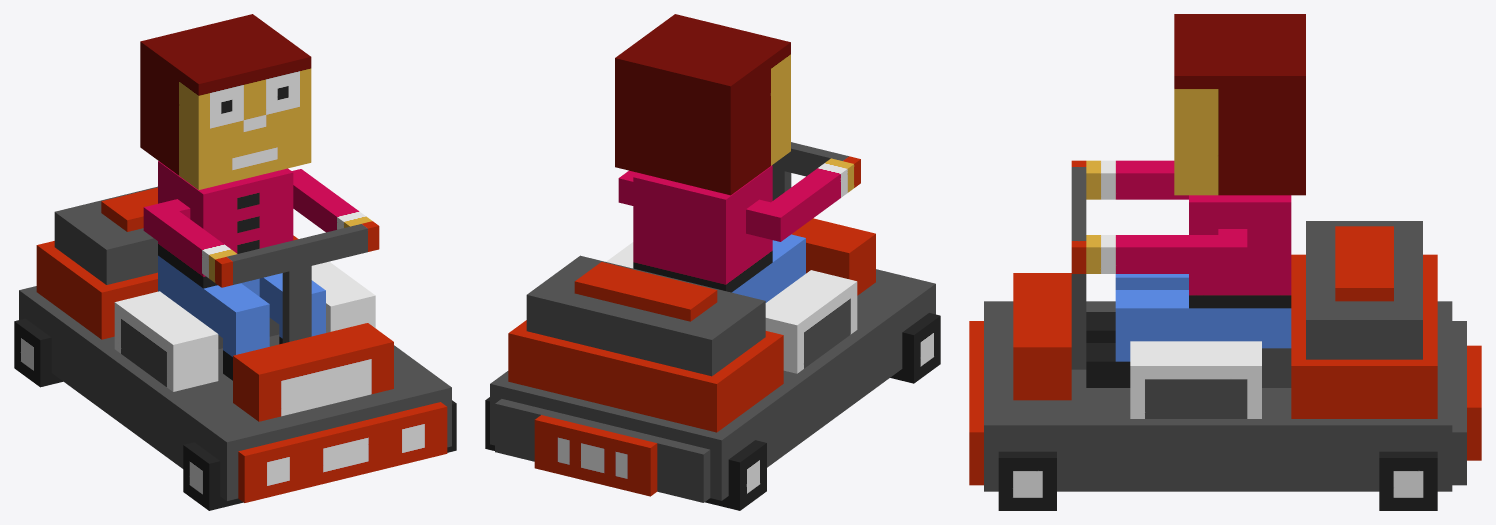
The model's file is Character_3.fbx.
3 renders of one model, left to right at view 1: azimuth 30°, elevation 25°; view 2: azimuth 150°, elevation 25°; view 3: azimuth 270°, elevation 25°, orthographic. The views are drawn at different scales.
Parts seen in each view (by area): view 1: Character_3; view 2: Character_3; view 3: Character_3.
Boxes of the visible parts, <box> form: Character_3: <box>14,14,456,510</box>; Character_3: <box>485,14,940,510</box>; Character_3: <box>969,14,1481,510</box>.
Bounding box in the file's own units: 22 × 30 × 35.
1 material, 1 textured.
